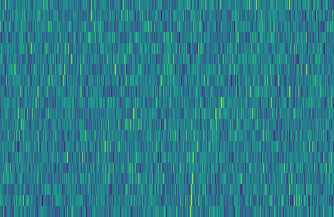signal: (186, 0, 205, 217)
